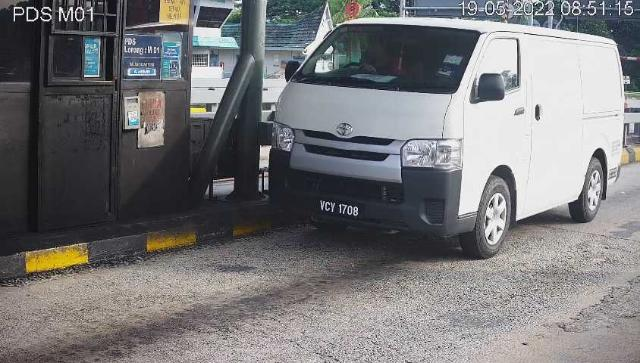License_Plate: (311, 196, 368, 227)
van: (270, 19, 625, 259)
